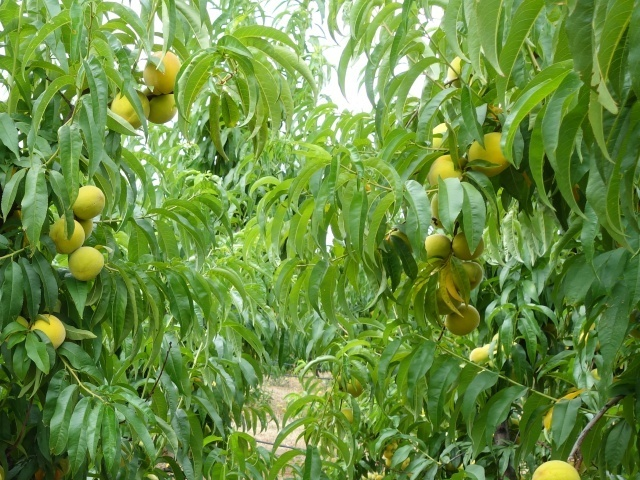peach: (140, 43, 187, 100), (469, 125, 518, 177), (106, 83, 156, 132), (68, 239, 111, 285), (141, 83, 184, 127), (26, 310, 68, 354), (46, 215, 86, 258), (429, 151, 470, 191), (448, 300, 484, 341), (529, 455, 586, 480), (70, 184, 107, 221), (420, 228, 458, 261), (450, 228, 487, 260), (453, 256, 487, 290), (438, 287, 467, 318)
